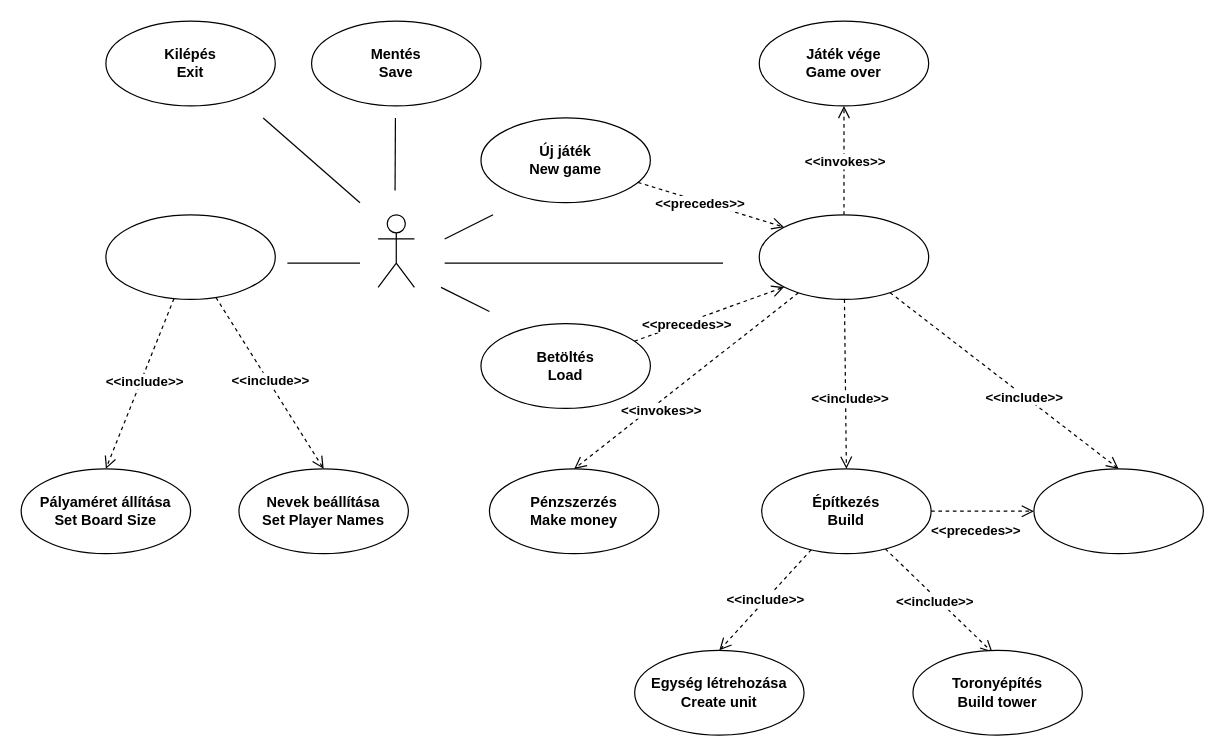
Some shapes in this 1225 by 756 pixel diagram are drawn without their labels. The centre of each missing label's shape, as x and y in pixels:
"Beállítások Settings" goes at (x=190, y=256).
"Játékos Player" goes at (x=395, y=250).
"Lépés Step" goes at (x=843, y=256).
"Támadás Attack" goes at (x=1118, y=511).
